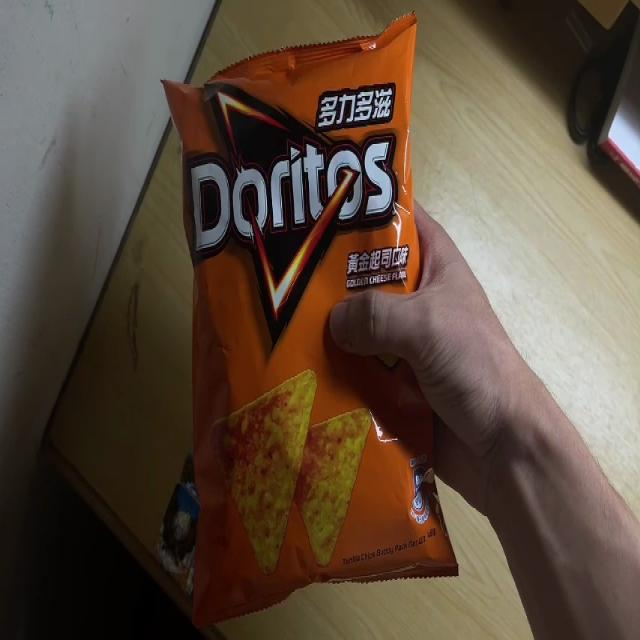Doritos: (164, 12, 459, 628)
